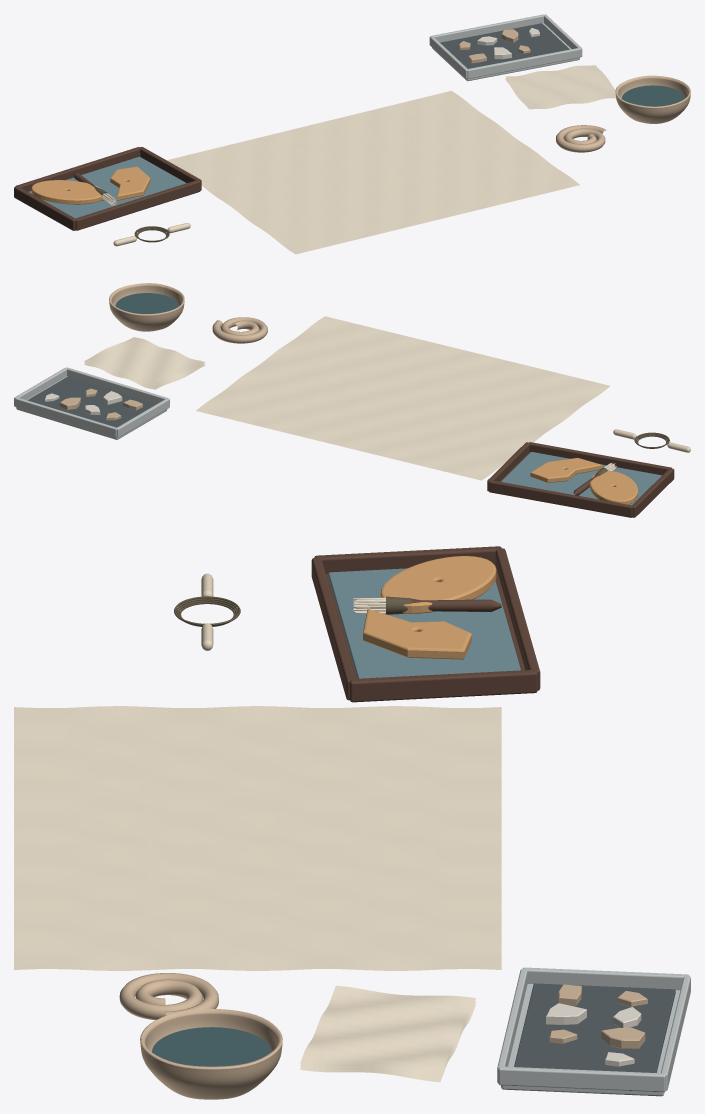
The model's file is craft-tools-v2.glb.
3 views of the same model, one above another, from view 1: azimuth 30°, elevation 25°; view 2: azimuth 150°, elevation 25°; view 3: azimuth 270°, elevation 25° (orthographic). The views are drawn at different scales.
Parts seen in each view (by area): view 1: Woven mat with soft edge, Soft folded cloth, Tray raised side (×2), Dark felt backing, Blue woven tool cushion, Archival raised side (×2), Hand thrown body with inner wall, Tray raised end (×2), Oval shaping rib, Continuous soft clay coil, Water surface, Kidney shaping rib (+2 smaller); view 2: Woven mat with soft edge, Tray raised side (×2), Soft folded cloth, Dark felt backing, Blue woven tool cushion, Archival raised side (×2), Hand thrown body with inner wall, Oval shaping rib, Tray raised end (×2), Continuous soft clay coil, Kidney shaping rib, Archival raised end (×2) (+2 smaller); view 3: Woven mat with soft edge, Soft folded cloth, Blue woven tool cushion, Dark felt backing, Tray raised end (×2), Hand thrown body with inner wall, Archival raised end (×2), Oval shaping rib, Tray raised side (×2), Kidney shaping rib, Water surface, Continuous soft clay coil (+3 smaller).
Boxes of the visible parts, x1,y1,x2,y2 form: Woven mat with soft edge: (167, 90, 579, 254); Soft folded cloth: (505, 65, 615, 106); Tray raised side (×2): (15, 147, 200, 230); Dark felt backing: (440, 23, 569, 68); Blue woven tool cushion: (28, 156, 186, 218); Archival raised side (×2): (431, 14, 580, 78); Hand thrown body with inner wall: (615, 75, 690, 123); Tray raised end (×2): (14, 147, 201, 230); Oval shaping rib: (31, 180, 102, 204); Continuous soft clay coil: (556, 125, 606, 152); Water surface: (621, 85, 684, 106); Kidney shaping rib: (110, 166, 150, 200); Woven mat with soft edge: (196, 316, 609, 480); Tray raised side (×2): (489, 442, 671, 517); Soft folded cloth: (84, 337, 205, 386); Dark felt backing: (27, 376, 156, 427); Blue woven tool cushion: (501, 452, 661, 505); Archival raised side (×2): (15, 367, 168, 437); Hand thrown body with inner wall: (109, 283, 184, 331); Oval shaping rib: (590, 471, 637, 504); Tray raised end (×2): (487, 442, 674, 517); Continuous soft clay coil: (212, 317, 267, 343); Kidney shaping rib: (530, 458, 602, 482); Archival raised end (×2): (14, 367, 169, 437); Woven mat with soft edge: (14, 706, 501, 970); Soft folded cloth: (300, 985, 475, 1076); Blue woven tool cushion: (328, 568, 520, 678); Dark felt backing: (514, 983, 675, 1072); Tray raised end (×2): (314, 546, 537, 702); Hand thrown body with inner wall: (140, 1009, 282, 1099); Archival raised end (×2): (498, 967, 689, 1092); Oval shaping rib: (380, 556, 496, 613); Tray raised side (×2): (311, 548, 540, 700); Kidney shaping rib: (363, 609, 471, 659); Water surface: (152, 1027, 270, 1066); Continuous soft clay coil: (119, 973, 218, 1019).
Size of the model in its own units: 3.1 by 0.1307 by 1.61.
